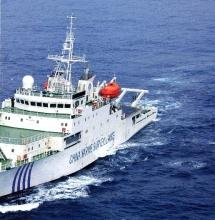warship: (4, 17, 157, 191)
